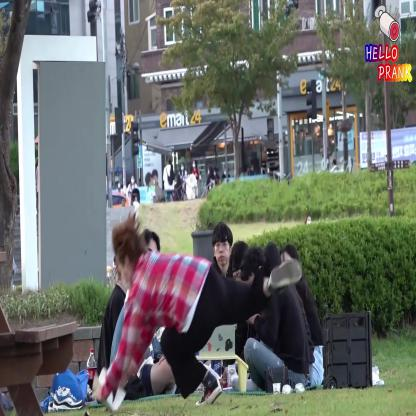Fall_Down: (92, 226, 302, 412)
